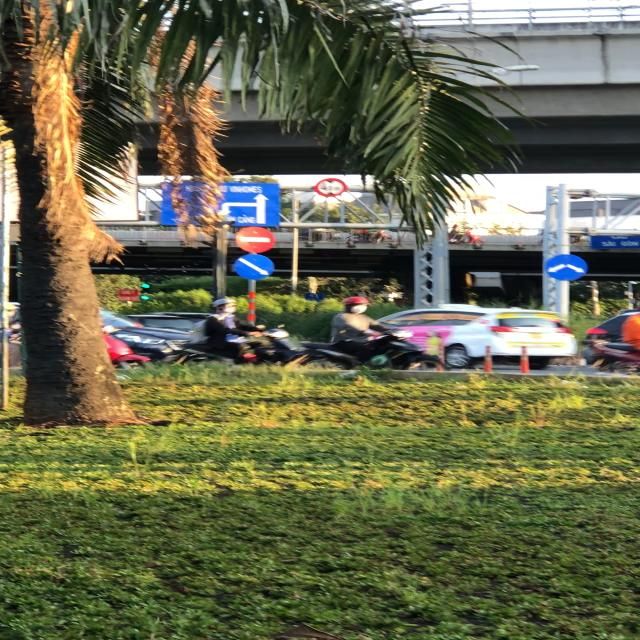Bien bao cam di nguoc chieu: (231, 224, 279, 252)
Bien bao han che chieu cao: (313, 176, 348, 198)
Bien bao huong phai di vong chuong ngai vat: (231, 252, 282, 282), (541, 253, 592, 283)
